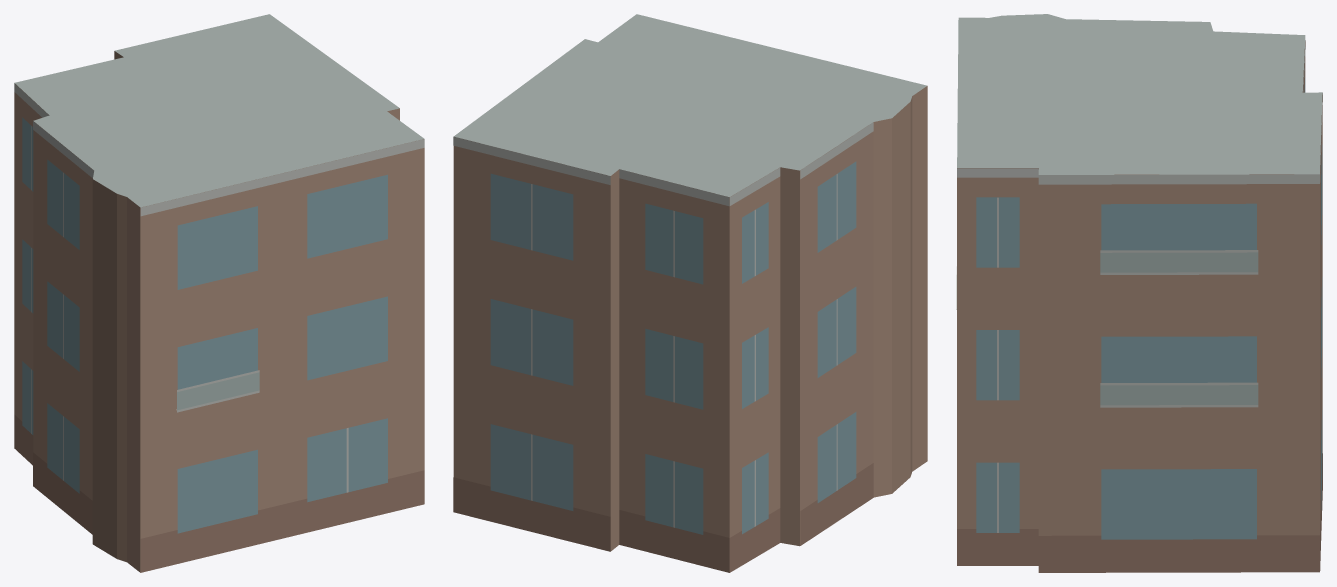
The model's file is survey-upis-32638477.glb.
3 renders of one model, left to right at view 1: azimuth 30°, elevation 25°; view 2: azimuth 150°, elevation 25°; view 3: azimuth 270°, elevation 25°, orthographic. The views are drawn at different scales.
Parts seen in each view (by area): view 1: survey-upis-32638477.tmp; view 2: survey-upis-32638477.tmp; view 3: survey-upis-32638477.tmp.
Part boxes in pixels (bbox=[...]): survey-upis-32638477.tmp: bbox=[14, 14, 424, 572]; survey-upis-32638477.tmp: bbox=[453, 14, 927, 572]; survey-upis-32638477.tmp: bbox=[956, 14, 1322, 572].
Size of the model in its own units: 8.71 by 10 by 8.35.
